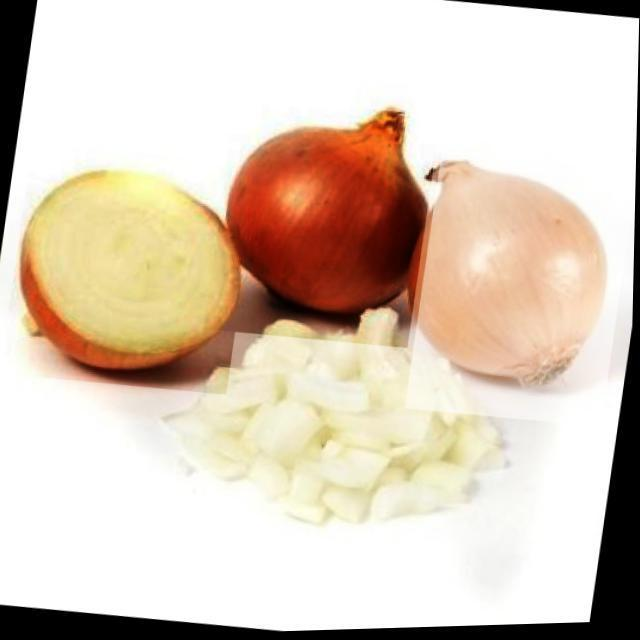Onion: (406, 135, 638, 434), (0, 147, 258, 401), (205, 93, 442, 354)
